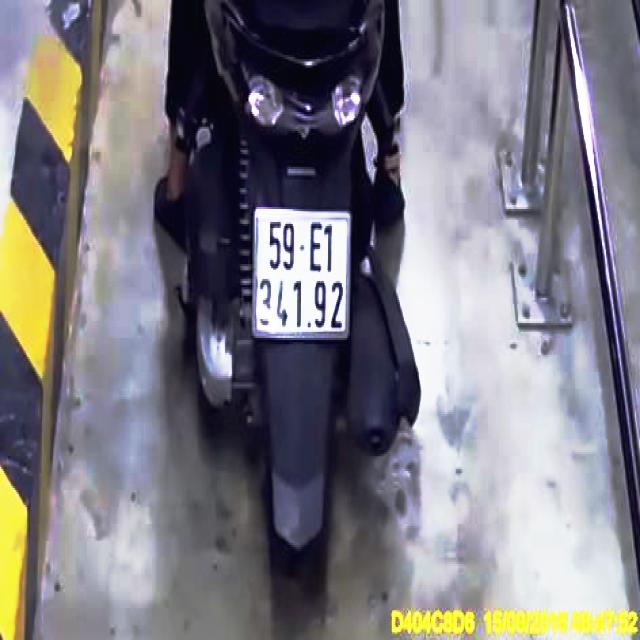license_plate: (255, 208, 353, 341)
